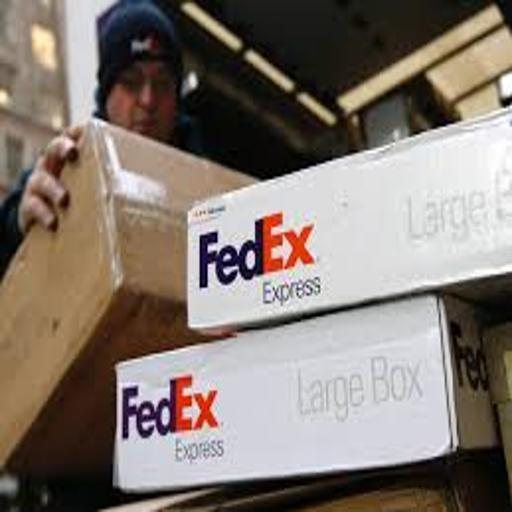FedEx: (186, 103, 512, 314), (115, 335, 477, 481)
